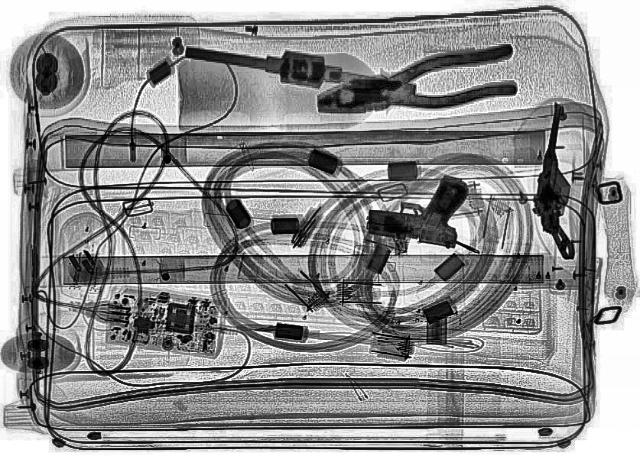Gun: (520, 100, 600, 258), (356, 163, 478, 247)
Pliers: (301, 41, 533, 131)
